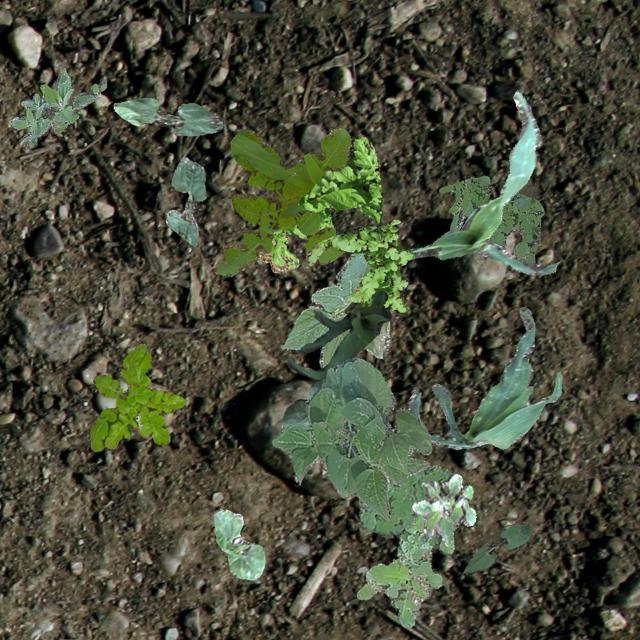crop: (404, 90, 558, 274), (270, 357, 430, 520), (408, 306, 560, 448), (281, 252, 388, 368), (286, 288, 391, 381), (112, 96, 222, 134), (164, 156, 206, 246), (212, 508, 264, 578), (462, 522, 530, 574), (280, 378, 324, 430)
weed: (214, 126, 350, 274), (256, 136, 382, 272), (356, 514, 454, 626), (304, 218, 414, 312), (89, 342, 184, 450), (438, 175, 544, 262), (8, 66, 106, 146), (358, 464, 451, 536), (412, 472, 476, 546)
